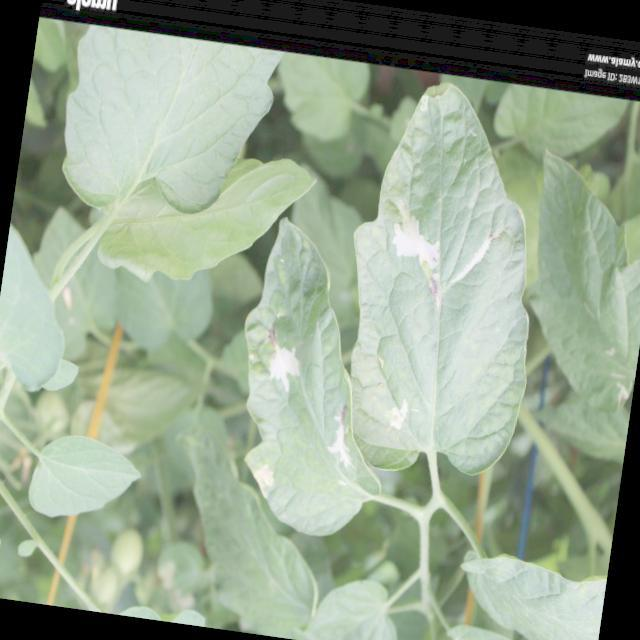Tomato healthy leaf: (51, 22, 288, 240), (149, 424, 342, 640), (446, 543, 609, 640), (26, 426, 146, 530)
Tomato target spot leaf: (320, 64, 572, 502), (213, 210, 421, 550)
